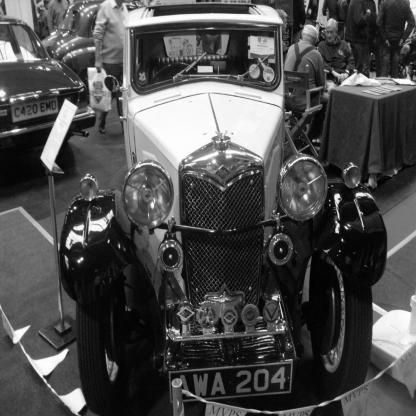car: (42, 1, 397, 416)
